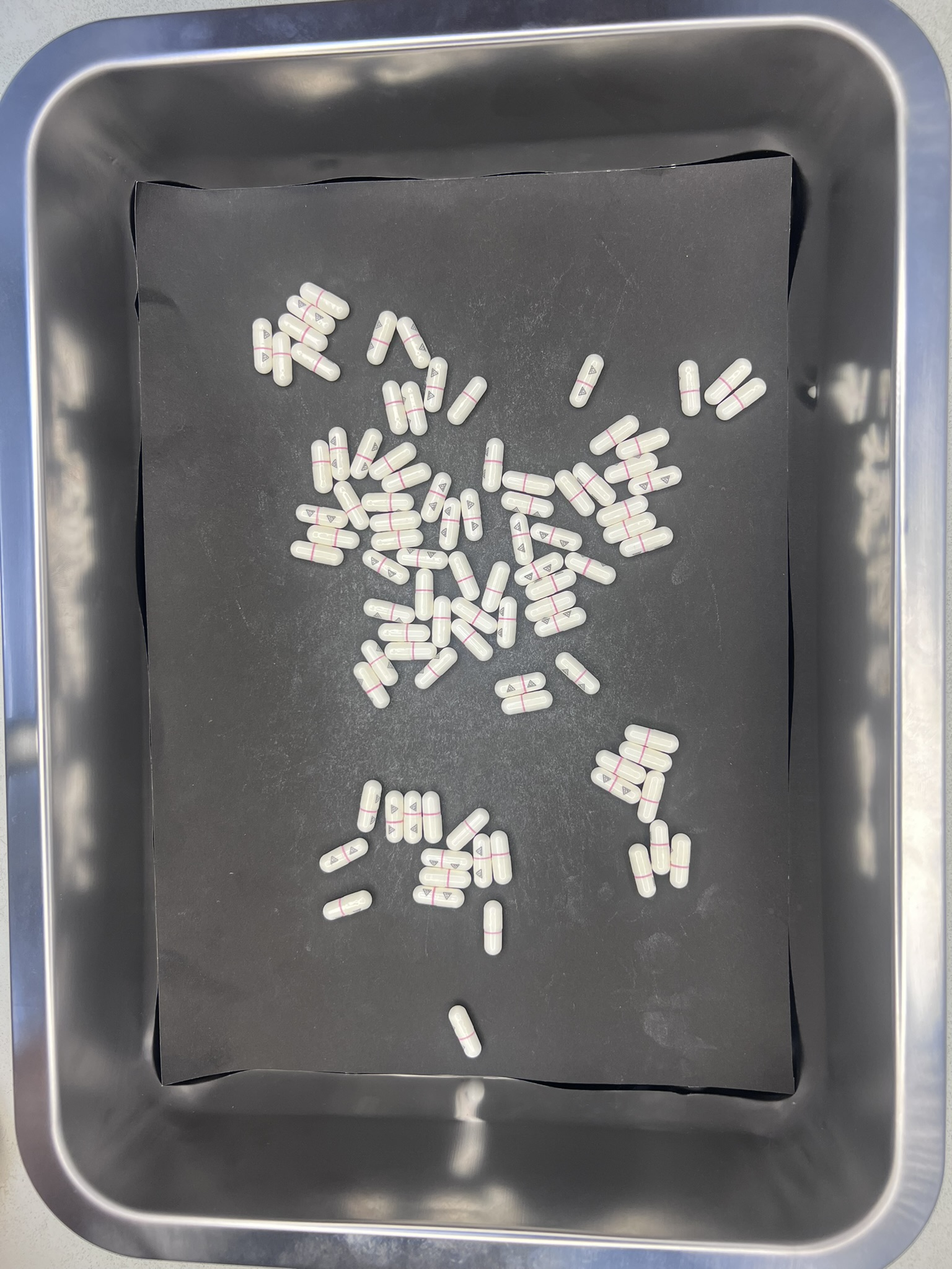Capsule: (703, 357, 753, 406), (715, 378, 768, 421), (555, 651, 603, 697), (299, 281, 352, 322), (571, 461, 617, 508), (291, 341, 341, 383), (448, 376, 489, 427), (589, 414, 639, 455), (554, 469, 597, 516), (590, 766, 641, 805), (446, 808, 490, 852), (414, 647, 459, 690), (287, 296, 335, 336), (370, 441, 418, 481), (333, 481, 371, 531), (278, 313, 328, 351), (570, 355, 605, 409), (447, 1004, 482, 1058), (451, 618, 493, 662), (523, 568, 579, 601), (353, 662, 391, 710), (317, 838, 369, 873), (614, 428, 669, 461), (618, 740, 674, 772), (513, 551, 564, 586), (451, 597, 496, 636), (597, 494, 650, 527), (625, 724, 678, 757), (360, 641, 398, 687), (565, 552, 616, 586), (363, 549, 411, 585), (397, 316, 430, 368), (380, 463, 433, 495), (606, 454, 659, 486), (367, 311, 398, 365), (351, 427, 383, 479), (534, 606, 586, 638), (604, 513, 656, 545), (619, 528, 674, 558), (449, 550, 480, 603), (525, 590, 576, 622), (627, 466, 681, 496), (530, 522, 581, 553), (323, 890, 372, 922), (289, 539, 344, 567), (629, 843, 657, 898), (482, 561, 511, 614), (401, 381, 428, 436), (501, 490, 554, 518), (502, 471, 556, 498), (423, 357, 448, 413), (423, 473, 451, 523), (363, 599, 416, 625), (639, 771, 665, 824), (495, 671, 546, 698), (383, 381, 408, 436), (594, 749, 639, 779), (502, 690, 553, 716), (357, 780, 383, 831), (361, 491, 418, 514), (437, 498, 462, 550), (252, 318, 274, 376), (306, 526, 359, 550), (490, 830, 513, 885), (413, 885, 465, 909), (669, 833, 692, 887), (369, 529, 425, 551), (296, 504, 349, 527), (328, 425, 350, 480), (678, 360, 700, 415), (649, 820, 671, 875), (421, 849, 473, 872), (510, 513, 533, 565), (482, 900, 503, 956), (397, 547, 450, 569), (311, 439, 332, 494), (370, 510, 422, 532), (461, 488, 483, 540), (483, 438, 504, 492), (272, 332, 293, 386), (419, 868, 470, 890), (497, 596, 518, 648), (384, 790, 404, 844), (403, 791, 423, 844), (385, 641, 438, 661), (415, 565, 434, 620), (472, 834, 492, 886), (378, 623, 432, 642), (432, 595, 452, 646), (422, 792, 442, 843)
